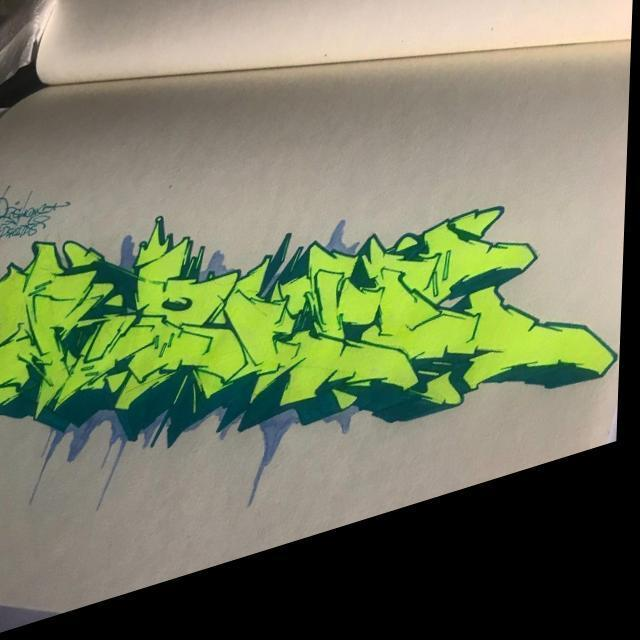-: (0, 58, 634, 586), (0, 155, 83, 260)
